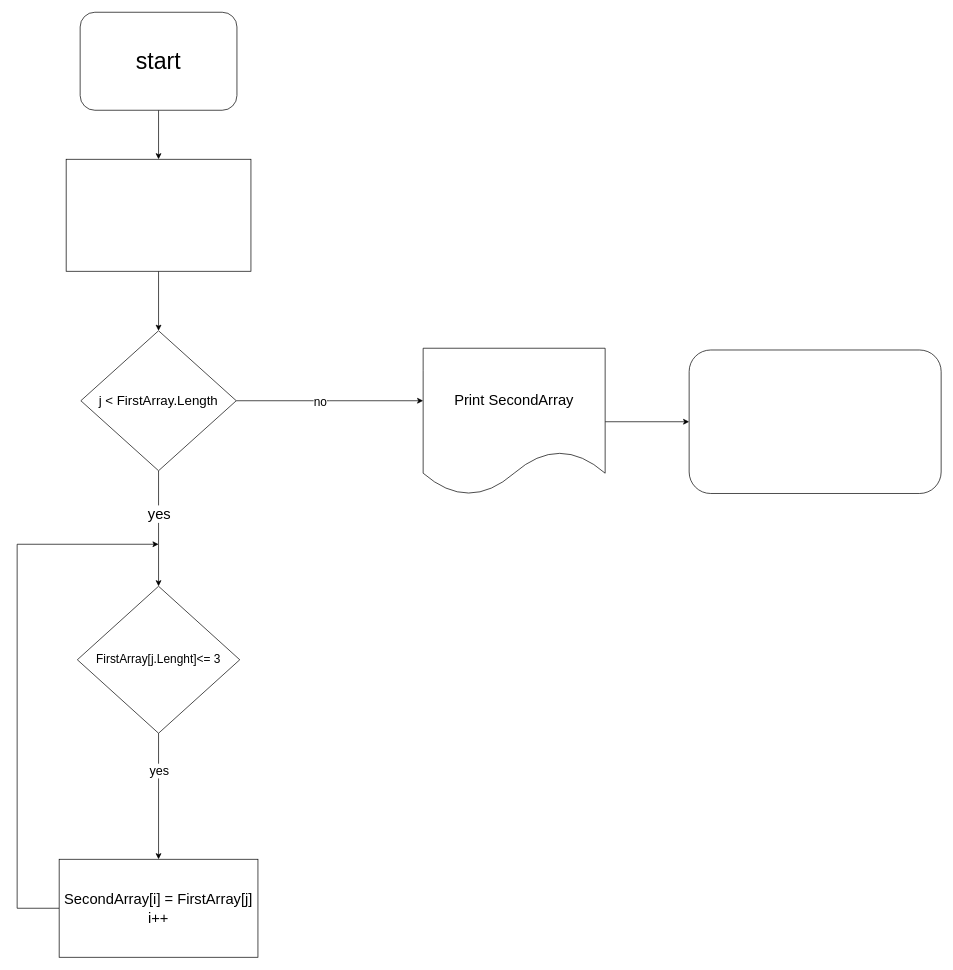
Some shapes in this 953 by 970 pixel diagram are drawn without their labels. The shapes that lost their labels are listed below. From the top down, each one's centre as x and y in pixels, then its label:
[158,215]: FirstArray SecondArray i j
[814,421]: end
